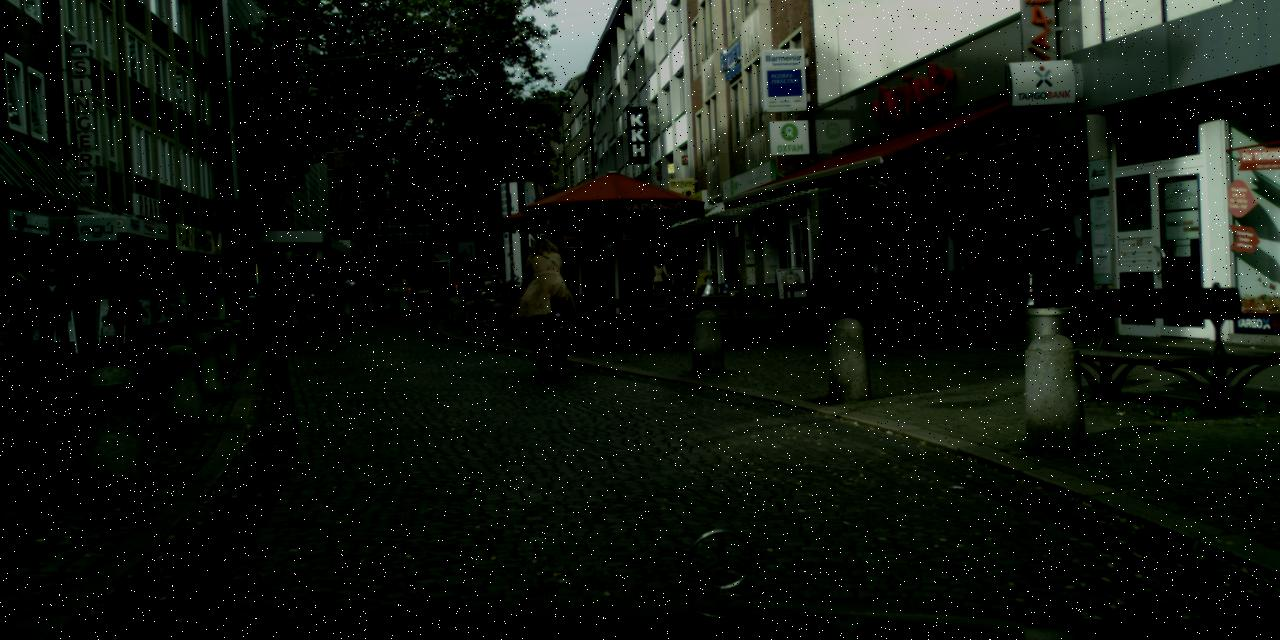ped: (997, 218, 1046, 339), (1027, 216, 1075, 334), (524, 238, 568, 344), (820, 233, 863, 339), (33, 266, 76, 370), (3, 272, 43, 370), (106, 274, 142, 361), (680, 254, 699, 300), (260, 277, 278, 321), (268, 276, 286, 320), (666, 254, 683, 295), (337, 273, 353, 313), (652, 256, 668, 296), (280, 282, 293, 316), (318, 272, 330, 302), (597, 264, 608, 292), (329, 278, 339, 304), (307, 274, 317, 300)
